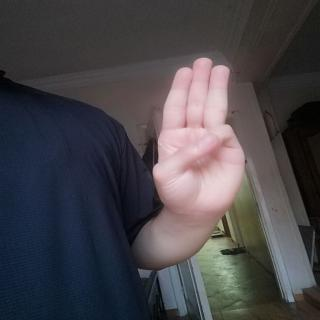THA: (146, 50, 264, 238)
